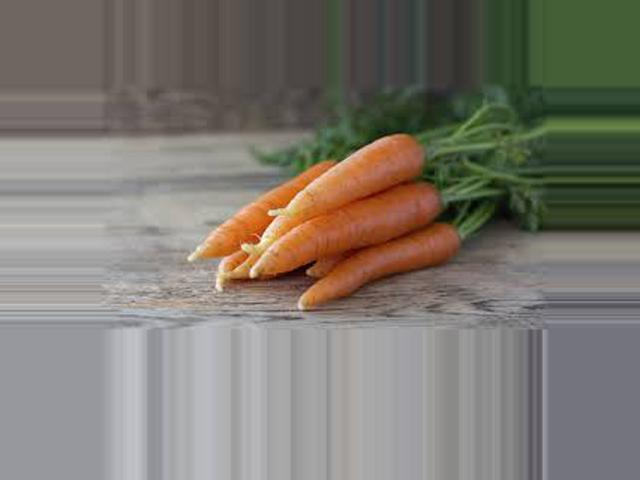carrot: (285, 226, 480, 295)
